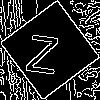Z: (25, 25, 61, 75)
